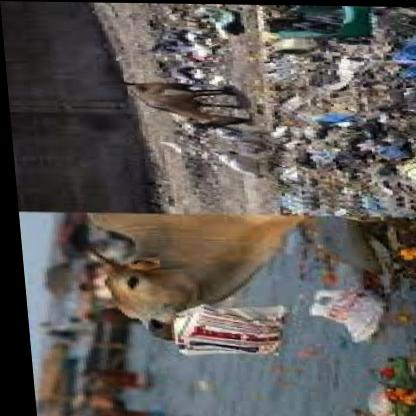Plastic: (154, 288, 279, 364), (287, 276, 394, 343)
